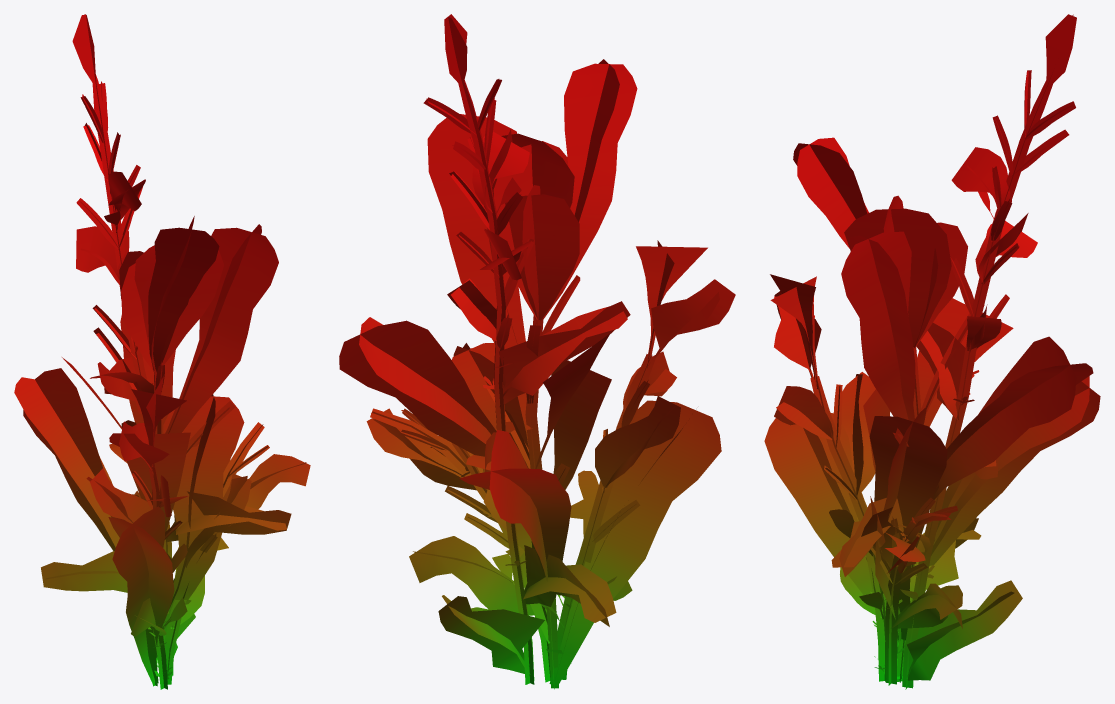
The model's file is Green Herb_LOD1_Var3_tbbpaier.fbx.
The picture shows the model from 3 angles, left to right: view 1: azimuth 30°, elevation 25°; view 2: azimuth 150°, elevation 25°; view 3: azimuth 270°, elevation 25°; orthographic projection. The views are drawn at different scales.
Parts seen in each view (by area): view 1: _e152_Var3_LOD1; view 2: _e152_Var3_LOD1; view 3: _e152_Var3_LOD1.
Part boxes in pixels (x1=…): _e152_Var3_LOD1: x1=14, y1=14, x2=310, y2=689; _e152_Var3_LOD1: x1=339, y1=14, x2=735, y2=689; _e152_Var3_LOD1: x1=764, y1=14, x2=1100, y2=689.
Bounding box in the file's own units: 9.56 × 22.64 × 10.26.
